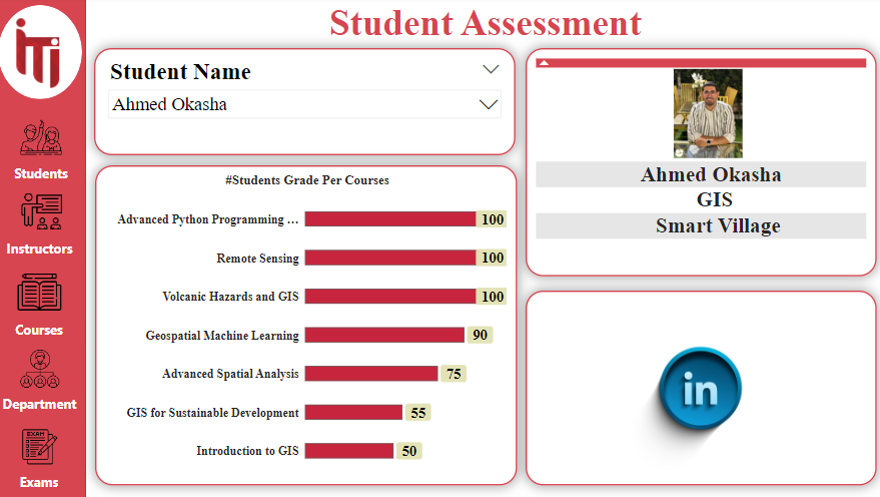

The page's visual inventory and layout, read from the dashboard file:
{"tool":"powerbi","page":{"name":"Student Assessment","canvas":[1280,720],"ordinal":12},"visuals":[{"type":"textbox","box":[131.2,0,1148.8,79],"z":0},{"type":"image","box":[7.2,272.1,119.5,72],"z":0,"group":"g1"},{"type":"shape","box":[0,0,131,720],"z":1000},{"type":"image","box":[5.7,167,121,69.1],"z":1000,"group":"g1"},{"type":"shape","box":[4.3,11.5,121,135.4],"z":2000},{"type":"textbox","box":[11.5,236.1,109.4,36],"z":2000,"group":"g1"},{"type":"image","box":[0,11.5,125.3,123.8],"z":3000},{"type":"textbox","box":[1.4,344.1,125.3,43.2],"z":3000,"group":"g1"},{"type":"pivotTable","title":"Male Percentage Of Completing  Freelancing Job","fields":{"Rows":["Fact | student.Std Image","Fact | student.Student Full name","Dim | tracks.TrackName","Dim | Branch.BranchName"]},"box":[763.9,73.2,504.9,327.8],"z":4000},{"type":"image","box":[1.4,387.3,125.3,73.4],"z":4000,"group":"g1"},{"type":"image","box":[763.9,421.5,504.9,279.5],"z":5000},{"type":"image","box":[1.4,613.4,125.3,66.2],"z":5000,"group":"g1"},{"type":"clusteredBarChart","title":"Students  Grade Per Courses","fields":{"Category":["Dim | courses.CourseName"],"Y":["Sum(Fact | student.Student_Courses.1.StudentDegree)"]},"box":[143.3,241.7,606.7,460],"z":6000},{"type":"textbox","box":[1.4,460.8,123.8,43.2],"z":6000,"group":"g1"},{"type":"slicer","fields":{"Values":["Fact | student.Student Full name"]},"box":[143.4,73.2,607.3,155.1],"z":7000},{"type":"textbox","box":[1.4,679.6,123.8,40.3],"z":7000,"group":"g1"},{"type":"group","id":"g1","title":"Group 1","box":[1.4,167,125.3,553],"z":8000},{"type":"image","box":[1.4,501.1,125.3,66.2],"z":8000,"group":"g1"},{"type":"textbox","box":[1.4,567.3,125.3,46.1],"z":9000,"group":"g1"}]}

Visuals, with their boxes in screenshot pixels (x1, y1, x2, y2), scaled from the page's 1280x720 canvas onto the 880x497 screenshot:
textbox: x1=90, y1=0, x2=879, y2=55
image: x1=5, y1=188, x2=87, y2=238
shape: x1=0, y1=0, x2=90, y2=496
image: x1=4, y1=115, x2=87, y2=163
shape: x1=3, y1=8, x2=86, y2=101
textbox: x1=8, y1=163, x2=83, y2=188
image: x1=0, y1=8, x2=86, y2=93
textbox: x1=1, y1=238, x2=87, y2=267
"Male Percentage Of Completing  Freelancing Job" pivotTable: x1=525, y1=51, x2=872, y2=277
image: x1=1, y1=267, x2=87, y2=318
image: x1=525, y1=291, x2=872, y2=484
image: x1=1, y1=423, x2=87, y2=469
"Students  Grade Per Courses" clusteredBarChart: x1=99, y1=167, x2=516, y2=484
textbox: x1=1, y1=318, x2=86, y2=348
slicer - Fact | student.Student Full name: x1=99, y1=51, x2=516, y2=158
textbox: x1=1, y1=469, x2=86, y2=496
"Group 1" group: x1=1, y1=115, x2=87, y2=496
image: x1=1, y1=346, x2=87, y2=392
textbox: x1=1, y1=392, x2=87, y2=423
